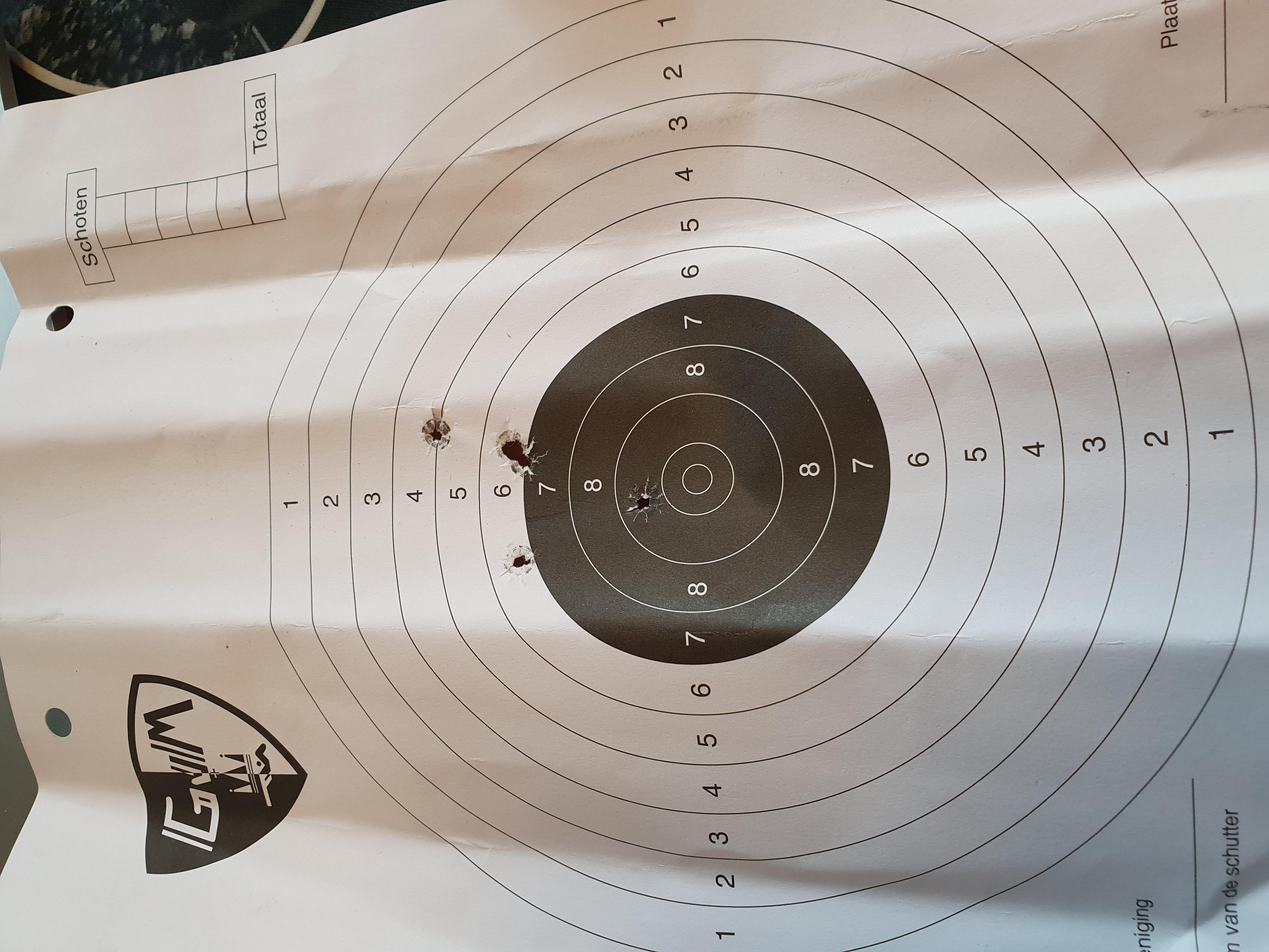hole: (573, 469, 633, 500), (498, 375, 547, 400), (668, 315, 714, 340), (654, 369, 699, 394), (630, 386, 669, 407)
